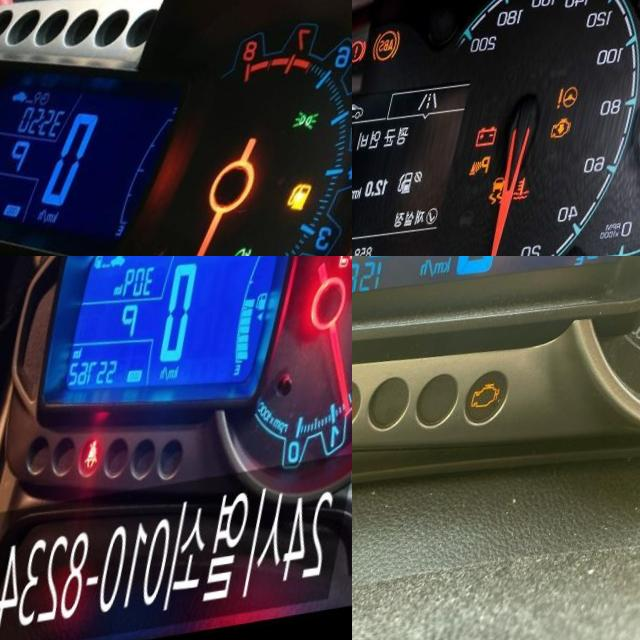Engine cooling system: (531, 184, 552, 210)
Low fuel level: (304, 192, 336, 226)
SideLamp: (308, 119, 339, 145)
